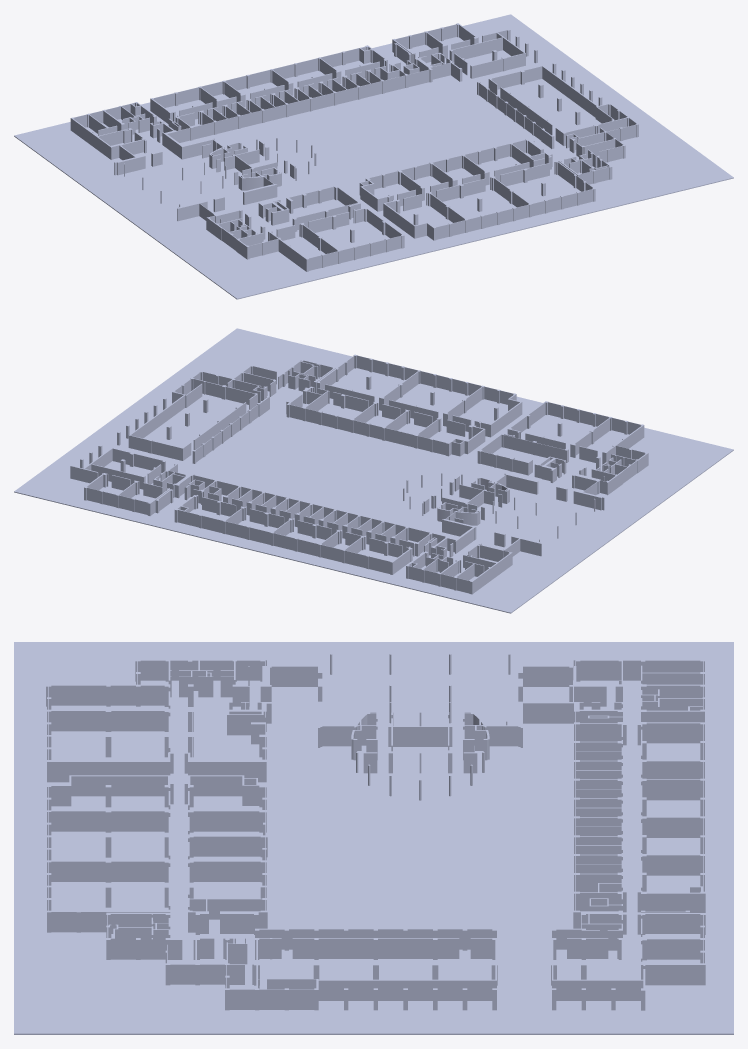
The model's file is fit1.FBX.
The picture shows the model from 3 angles, top to bottom: view 1: azimuth 30°, elevation 25°; view 2: azimuth 150°, elevation 25°; view 3: azimuth 270°, elevation 25°; orthographic projection. The views are drawn at different scales.
Parts seen in each view (by area): view 1: 凸台-拉伸2; view 2: 凸台-拉伸2; view 3: 凸台-拉伸2.
Boxes of the visible parts, x1,y1,x2,y2 form: 凸台-拉伸2: [14, 14, 733, 299]; 凸台-拉伸2: [14, 328, 733, 613]; 凸台-拉伸2: [14, 642, 733, 1034].
Bounding box in the file's own units: 4910 × 126 × 3818.
